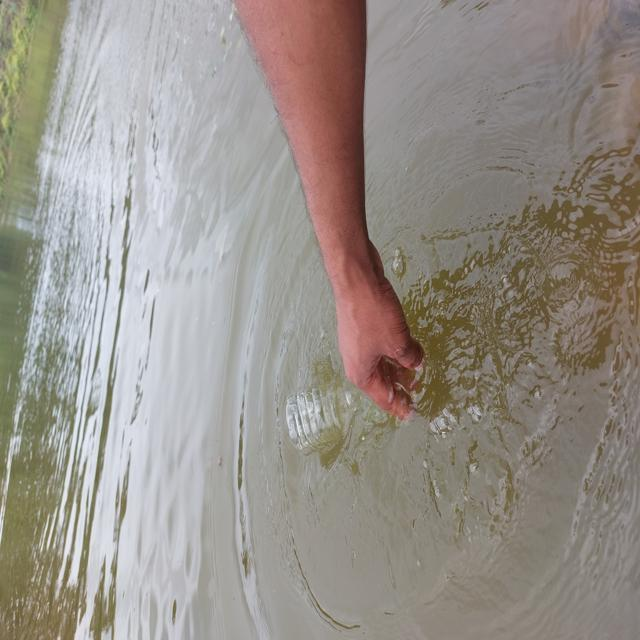waterbottle: (279, 380, 422, 472)
